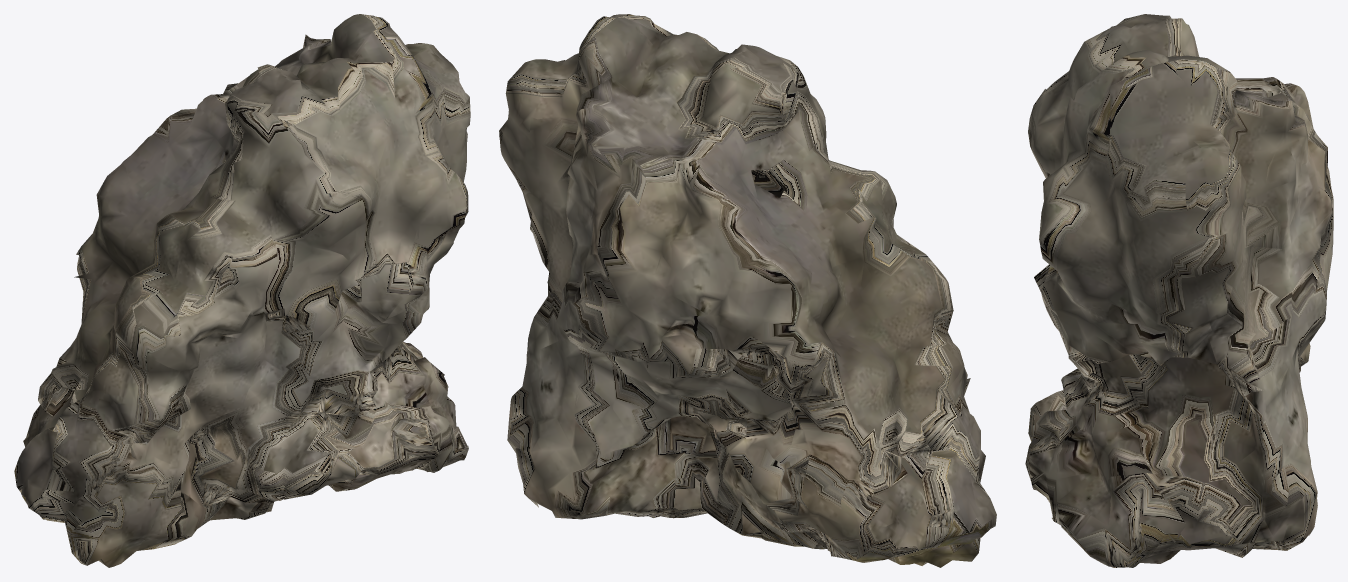
Rendered from coral-porites-lobata.glb.
3 renders of one model, left to right at view 1: azimuth 30°, elevation 25°; view 2: azimuth 150°, elevation 25°; view 3: azimuth 270°, elevation 25°, orthographic. The views are drawn at different scales.
Size of the model in its own units: 0.1761 by 0.1742 by 0.0949.
1 material, 1 textured.
